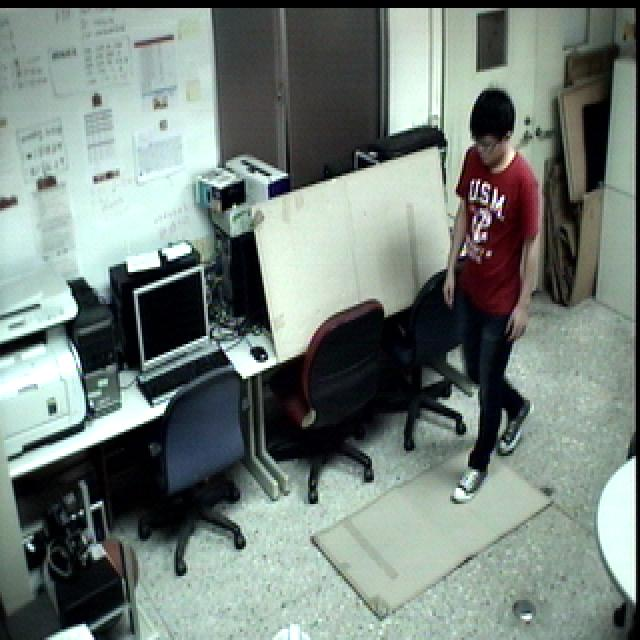stand: (426, 77, 554, 505)
